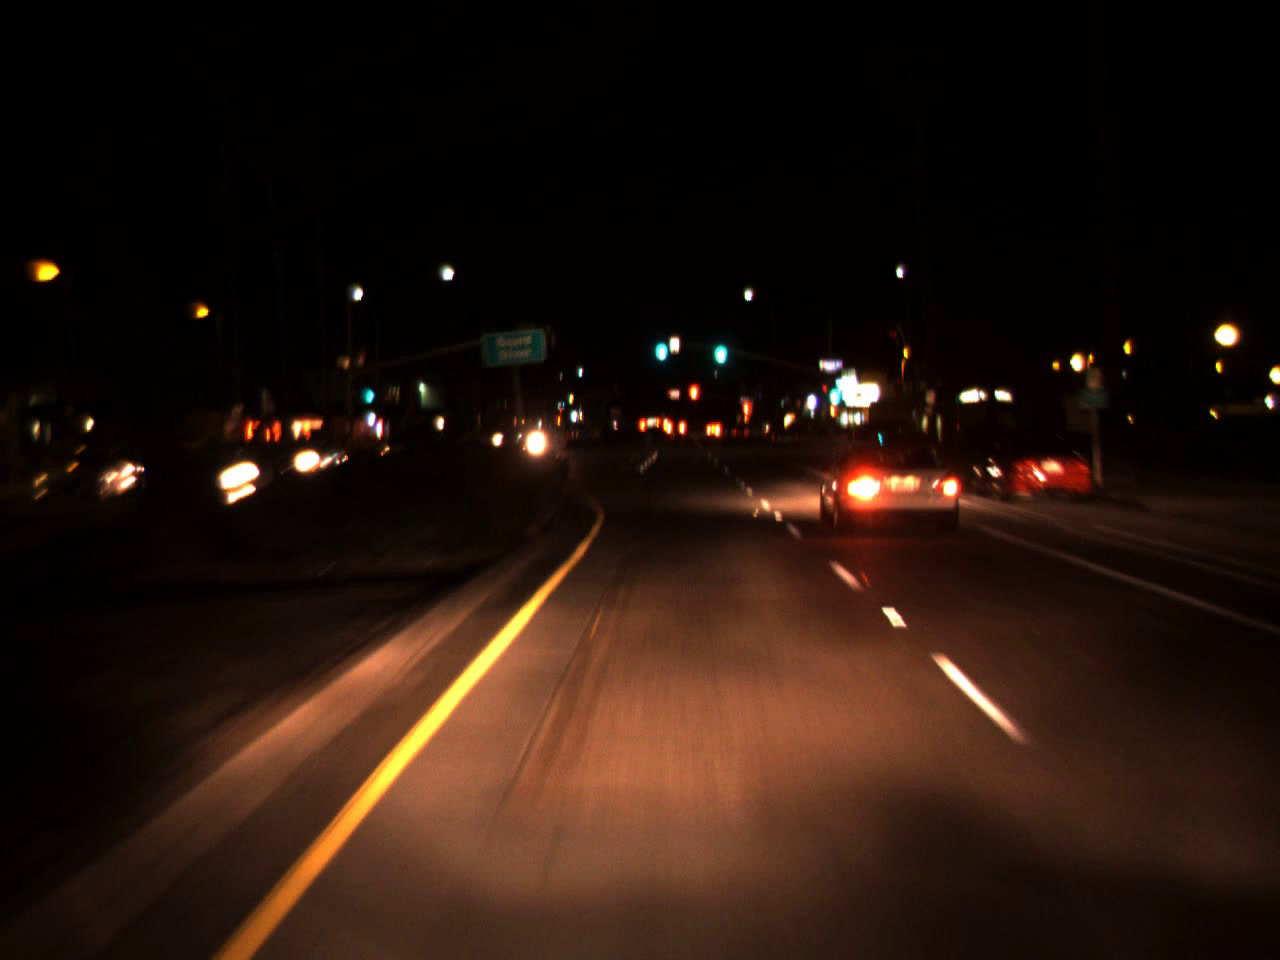go: (648, 322, 671, 361), (709, 323, 728, 368), (825, 371, 843, 410), (363, 374, 373, 407)
stop: (686, 380, 701, 423), (740, 399, 753, 431)
